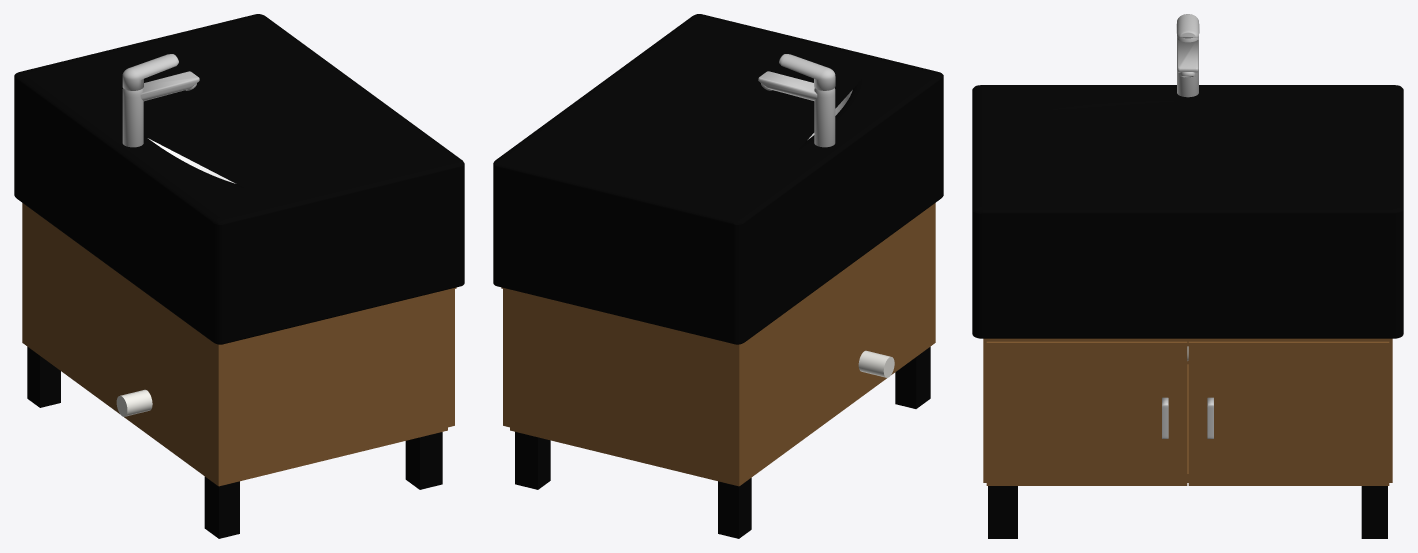
Rendered from sink_and_storage.fbx.
3 views of the same model, side by side, from view 1: azimuth 30°, elevation 25°; view 2: azimuth 150°, elevation 25°; view 3: azimuth 270°, elevation 25° (orthographic). The views are drawn at different scales.
Visible parts, largest first — view 1: Basin, Cupboard, Faucet, FaucetHead, Left Door, PVC; view 2: Basin, Cupboard, Faucet, FaucetHead, Right Door, PVC; view 3: Basin, Left Door, Right Door, Cupboard, Faucet, FaucetHead.
Part boxes in pixels (x1,y1,x2,y2): Basin: (14,14,464,344); Cupboard: (22,203,456,538); Faucet: (122,71,199,147); FaucetHead: (122,54,178,90); Left Door: (448,289,454,427); PVC: (116,389,152,416); Basin: (493,14,943,344); Cupboard: (501,203,935,538); Faucet: (758,71,835,147); FaucetHead: (779,54,835,90); Right Door: (503,289,509,427); PVC: (858,350,894,377); Basin: (972,85,1403,338); Left Door: (986,341,1187,485); Right Door: (1188,341,1389,485); Cupboard: (983,338,1392,538); Faucet: (1177,37,1198,97); FaucetHead: (1176,14,1199,38).
Size of the model in its own units: 163 by 226 by 210.
